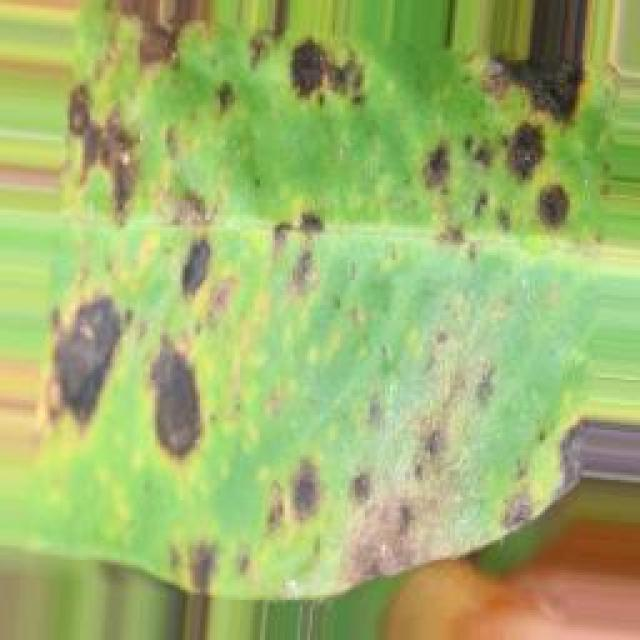Yellowish: (39, 0, 602, 580)
